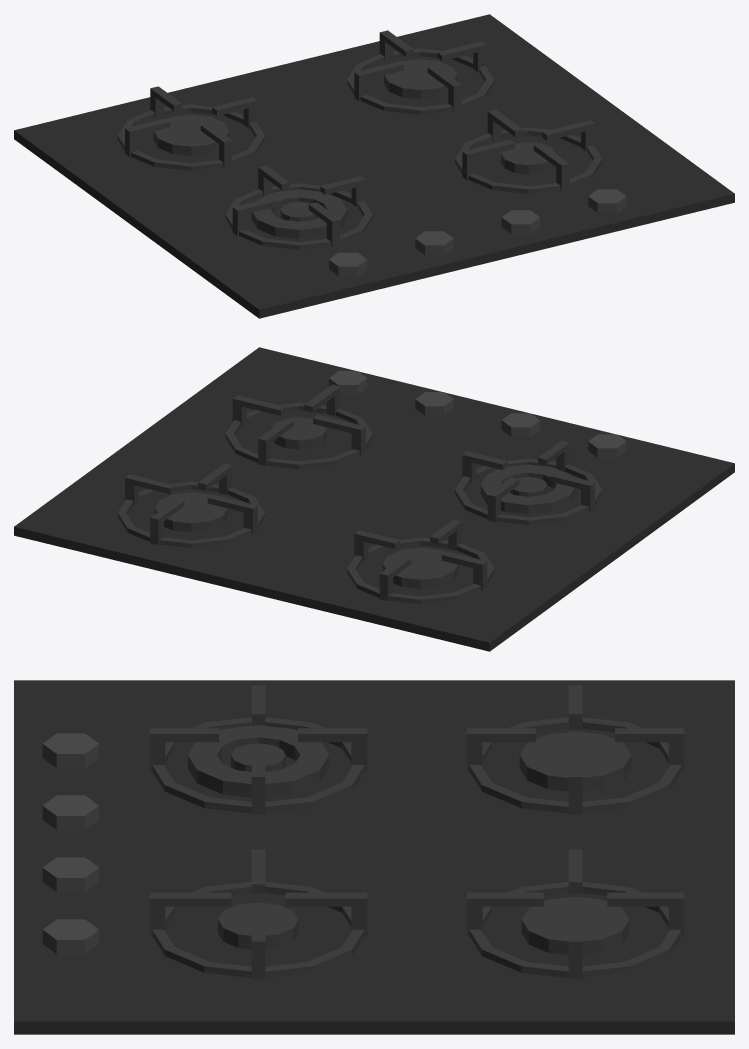
Rendered from Hob1_C1.fbx.
The picture shows the model from 3 angles, top to bottom: view 1: azimuth 30°, elevation 25°; view 2: azimuth 150°, elevation 25°; view 3: azimuth 270°, elevation 25°; orthographic projection. The views are drawn at different scales.
Visible parts, largest first — view 1: Hob1_C1; view 2: Hob1_C1; view 3: Hob1_C1.
Part boxes in pixels (x1,y1,x2,y2): Hob1_C1: (14,14,734,318); Hob1_C1: (14,347,734,651); Hob1_C1: (14,680,734,1034).
Size of the model in its own units: 56 by 3.87 by 50.
